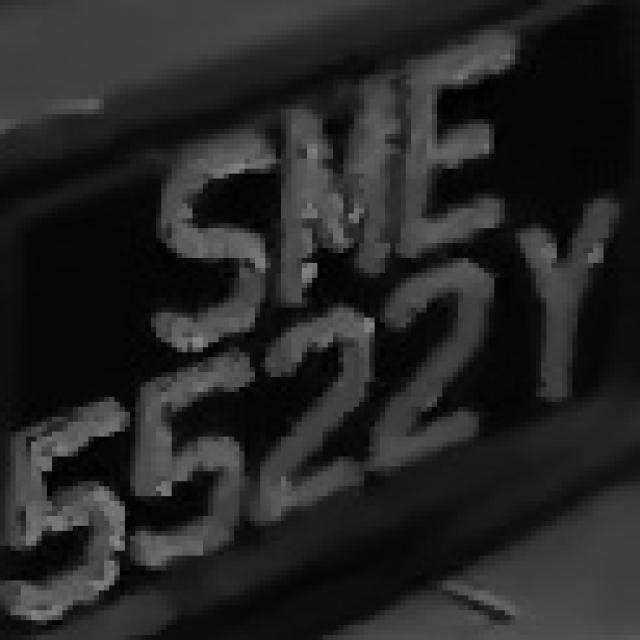2: (380, 258, 510, 486), (265, 308, 380, 521)
5: (15, 402, 140, 640), (146, 362, 260, 576)
E: (390, 30, 541, 253)
M: (266, 114, 396, 293)
S: (120, 139, 281, 342)
Y: (499, 208, 640, 426)
